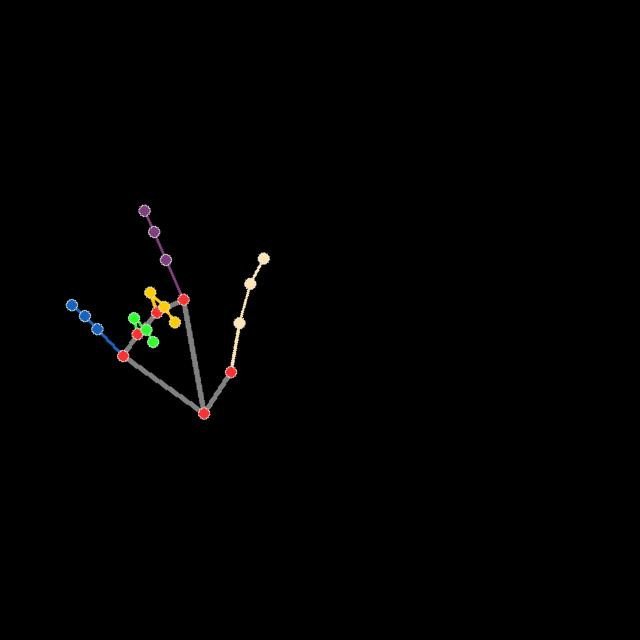spiderman: (54, 200, 271, 422)
